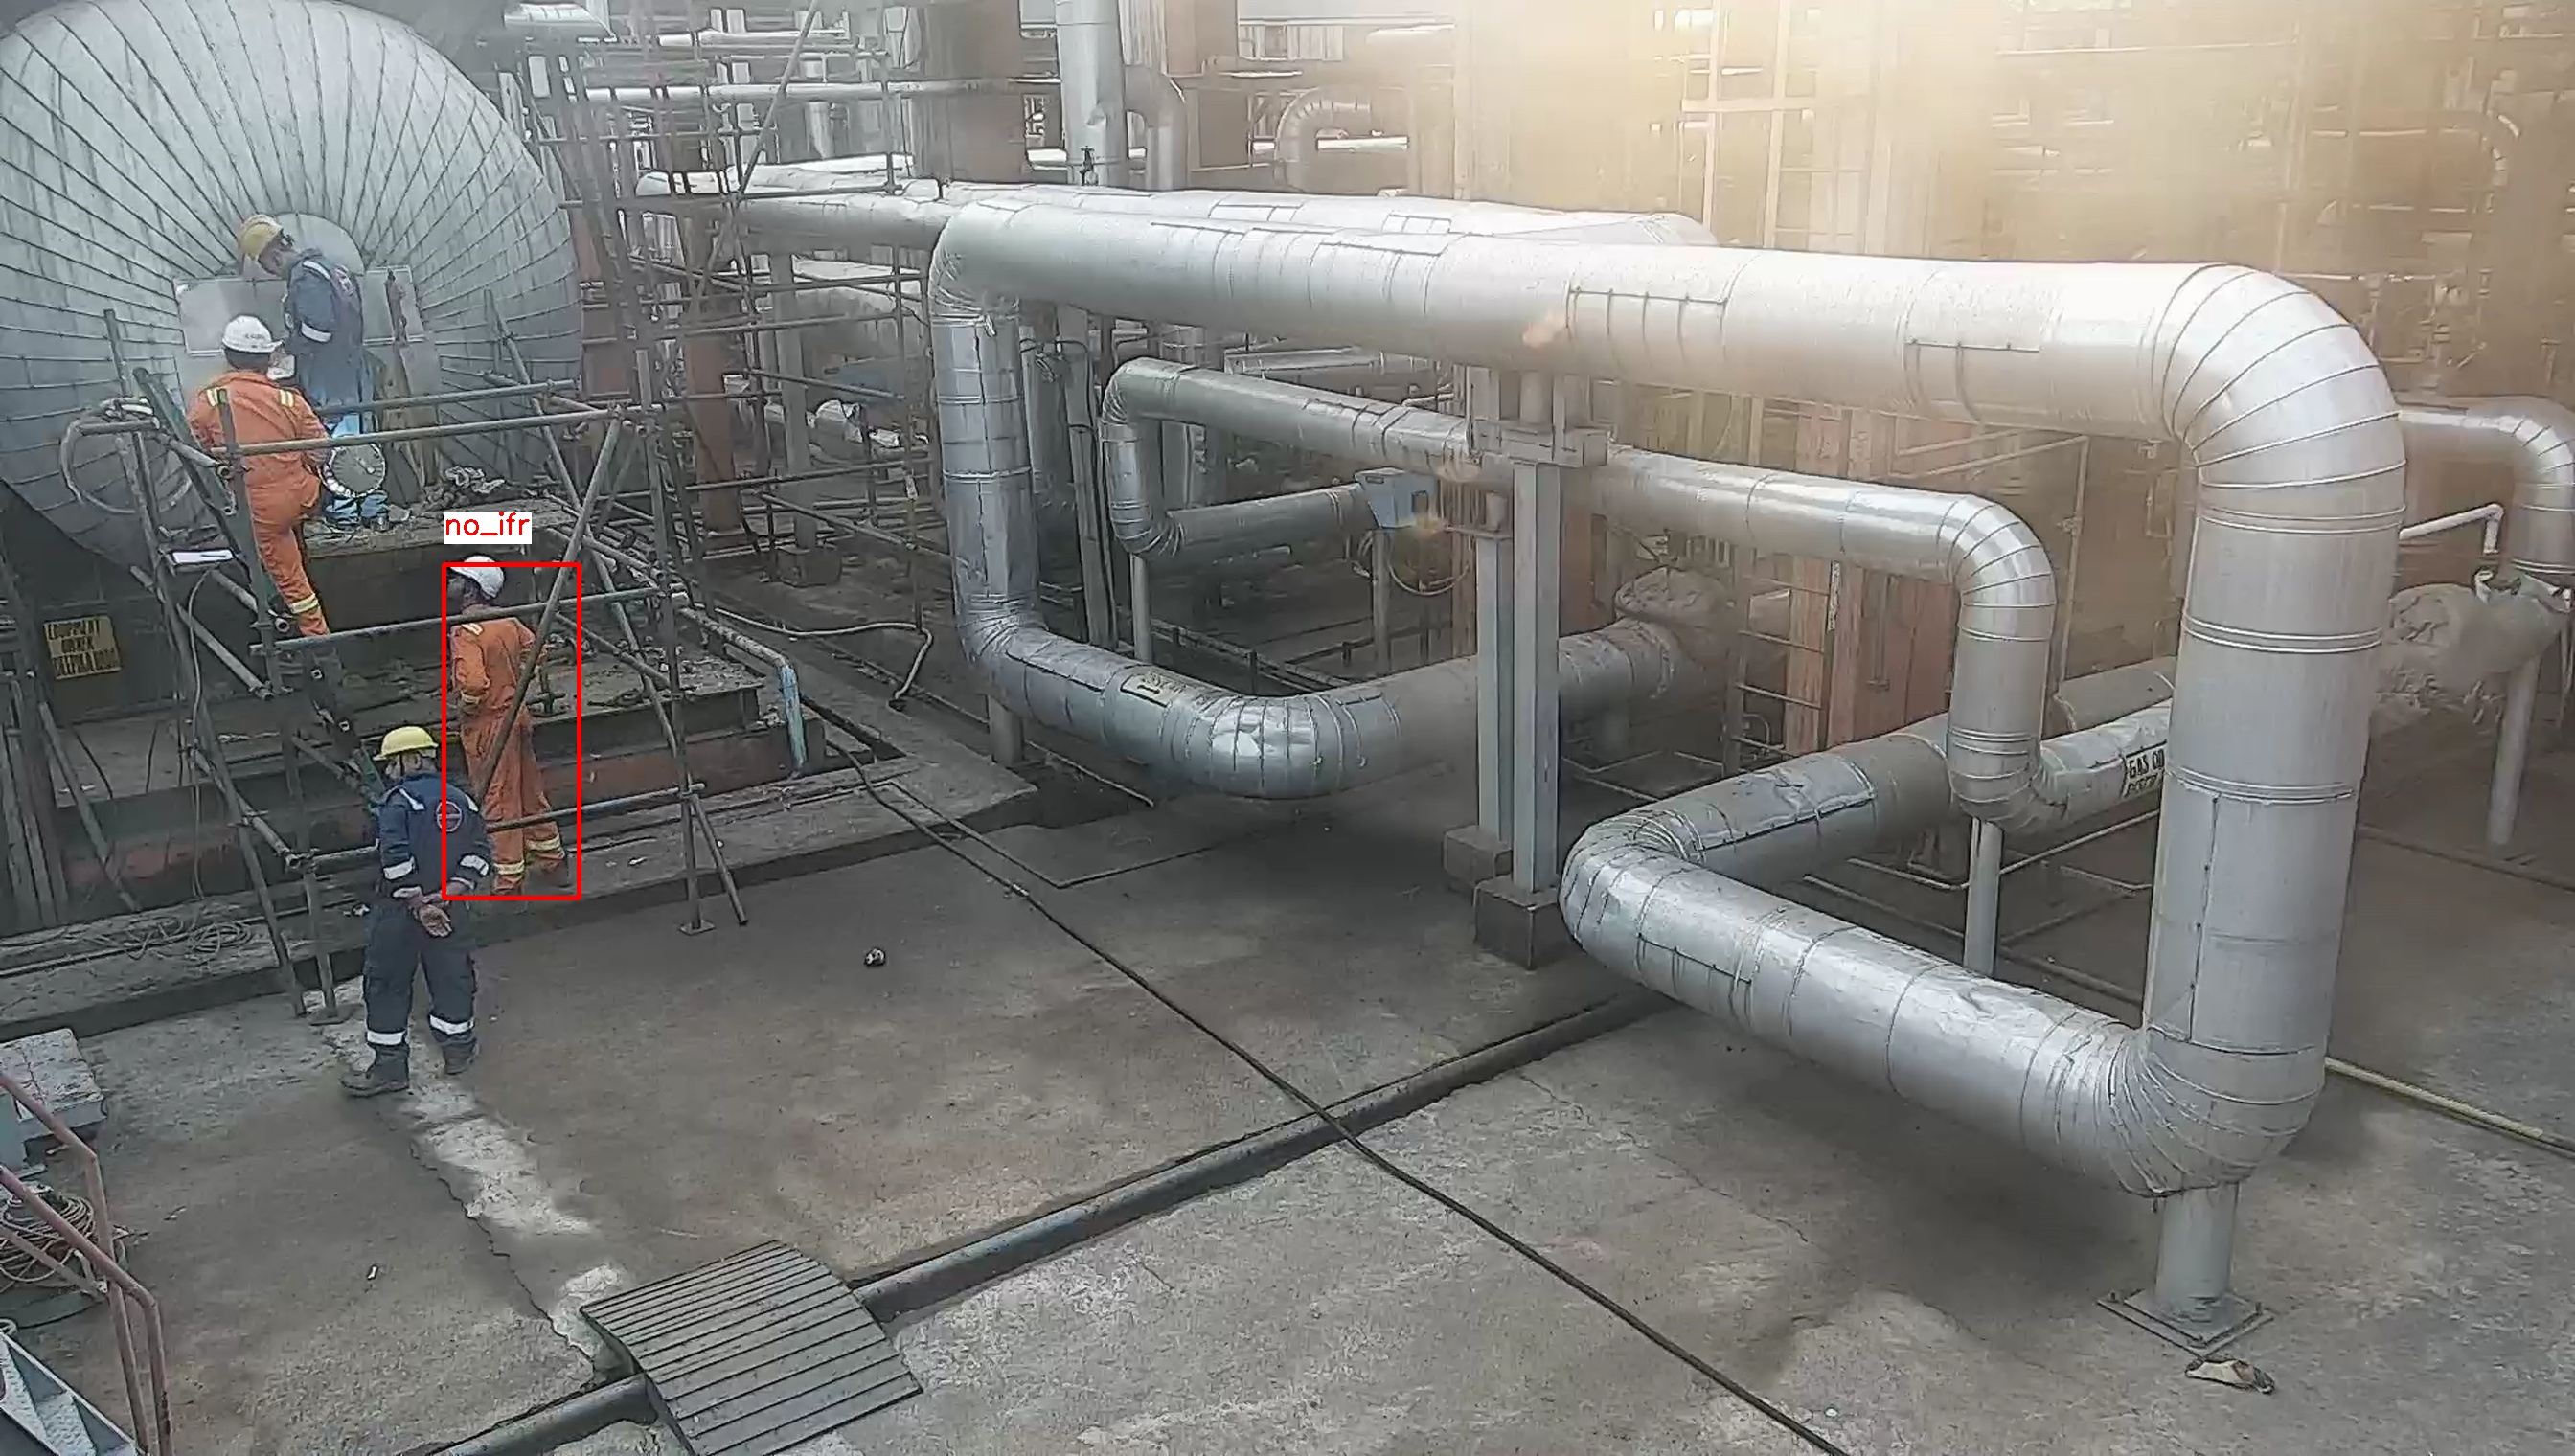Boots: (332, 1046, 416, 1106)
Helmets: (214, 313, 287, 359), (223, 211, 287, 258), (366, 722, 439, 762)
IFR_Suit: (191, 368, 338, 626), (453, 605, 561, 867)
